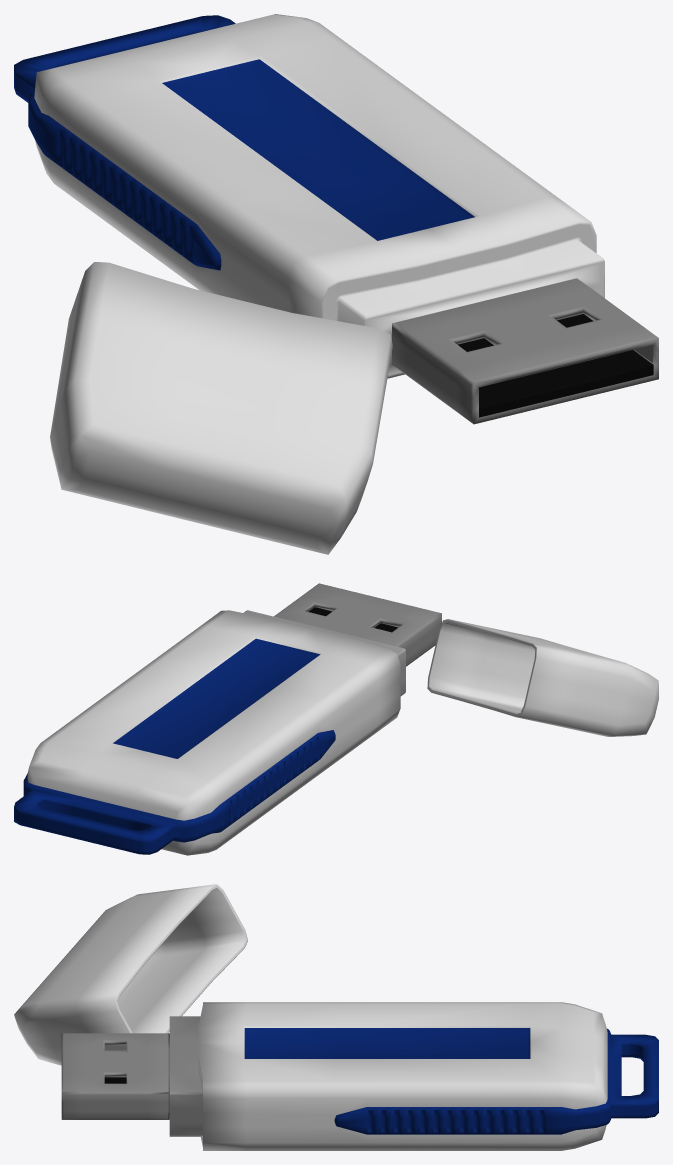
The model's file is usb.glb.
3 renders of one model, top to bottom at view 1: azimuth 30°, elevation 25°; view 2: azimuth 150°, elevation 25°; view 3: azimuth 270°, elevation 25°, orthographic. The views are drawn at different scales.
Visible parts, largest first — view 1: Cube, Cube.001, Cube.002; view 2: Cube, Cube.001, Cube.002; view 3: Cube, Cube.001, Cube.002.
Boxes of the visible parts, x1,y1,x2,y2 form: Cube: (34,14,658,424); Cube.001: (50,262,392,554); Cube.002: (14,15,235,270); Cube: (27,583,441,855); Cube.001: (427,619,658,736); Cube.002: (14,730,335,854); Cube: (61,1002,607,1150); Cube.001: (14,884,247,1065); Cube.002: (334,1028,658,1134).
Bounding box in the file's own units: 2.45 × 0.8535 × 3.48.
